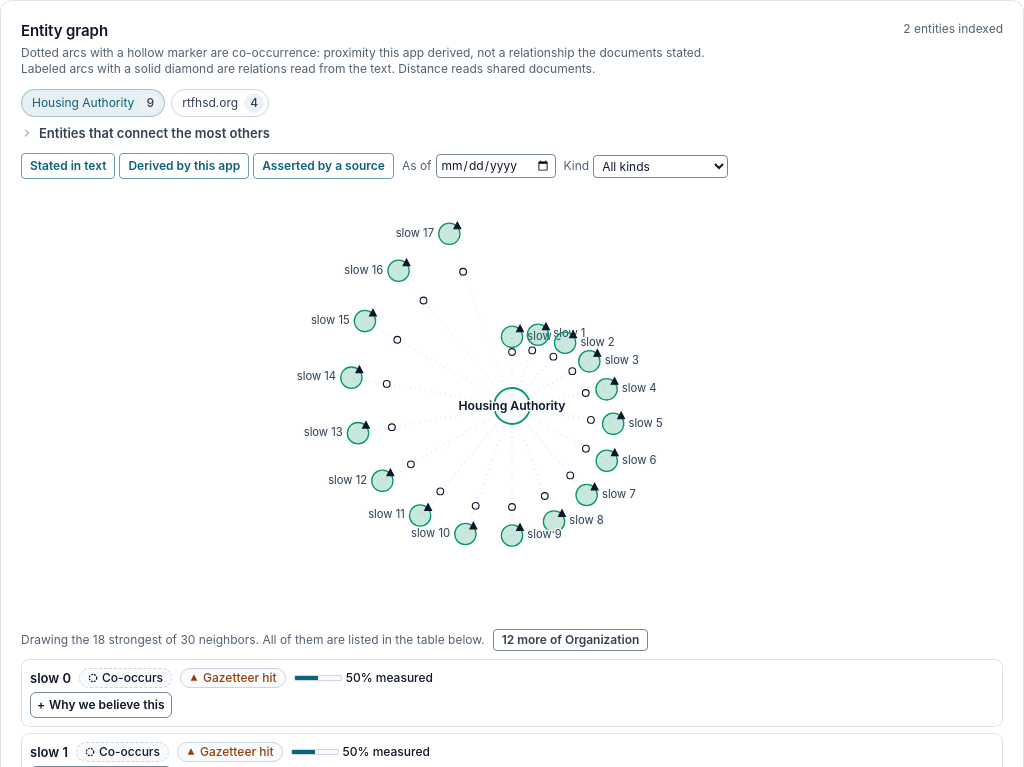
it: EntityGraph with more neighbours than a drawing holds › drops a later page that lands after the reader moved to another entity
Click the button "rtfhsd.org 4": [220, 103] box [171,89,269,117]
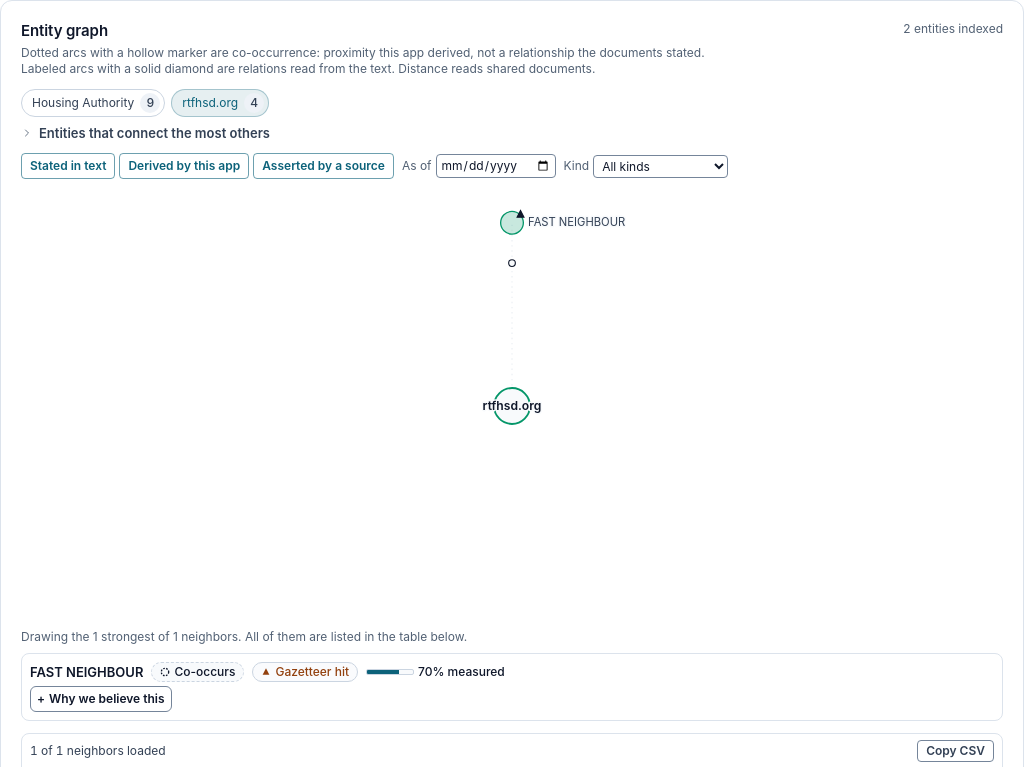
Expected: the text "1 of 1 neighbors loaded" is shown, [30,743,166,759]
